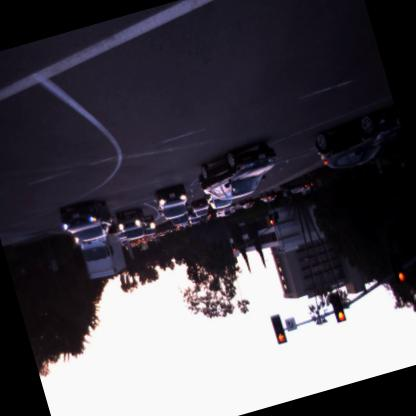trafficlight: (270, 312, 290, 348), (391, 254, 410, 287), (331, 292, 347, 323), (267, 212, 275, 226), (232, 243, 238, 252)
